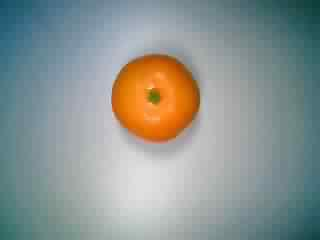orange: (106, 50, 203, 147)
